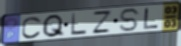C: (21, 16, 43, 40)
L: (70, 12, 89, 37), (143, 8, 161, 31)
Q: (41, 13, 66, 39)
S: (119, 7, 142, 33)
Z: (91, 10, 114, 35)
